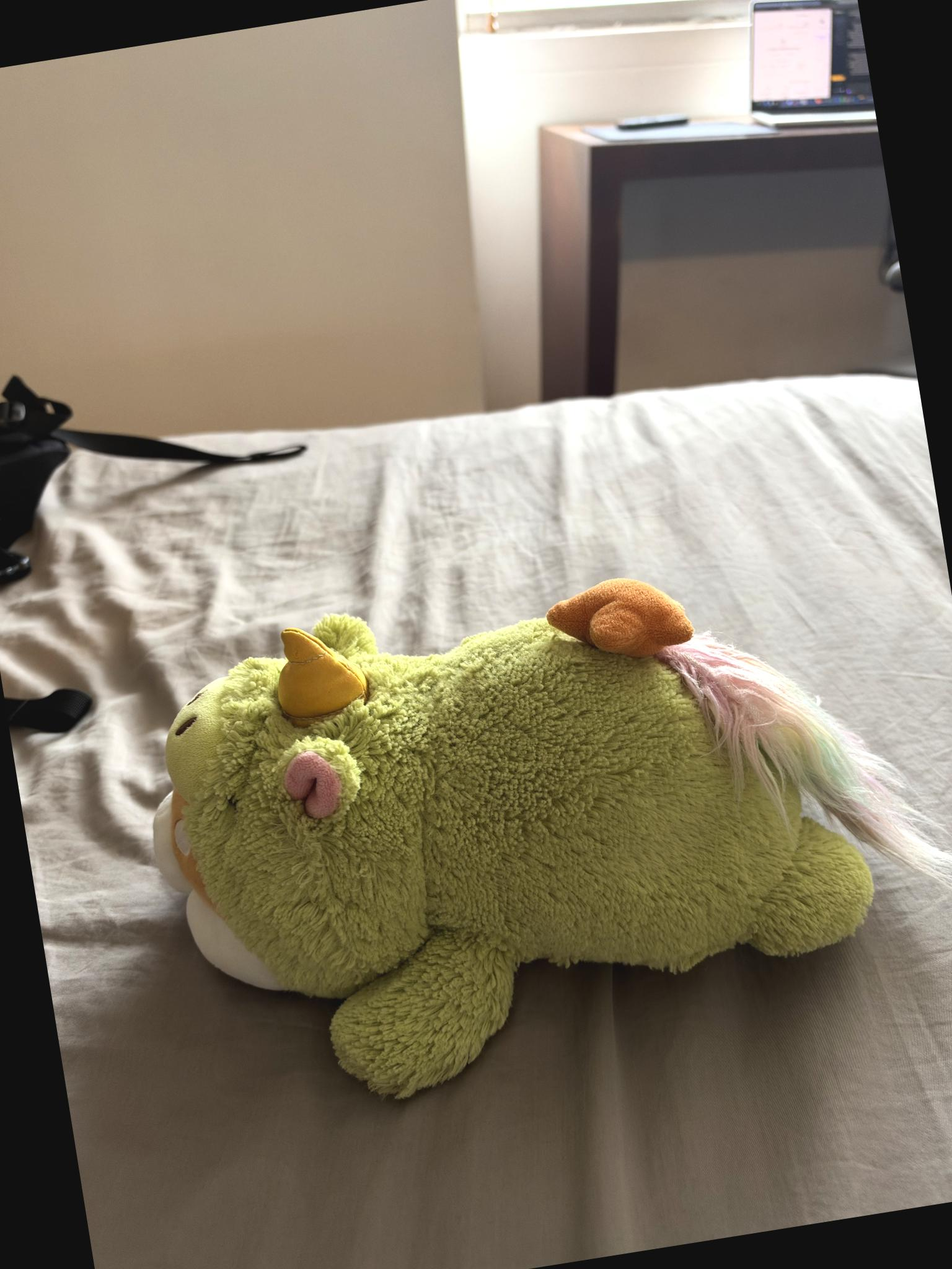peluche_martin: (117, 518, 952, 1136)
